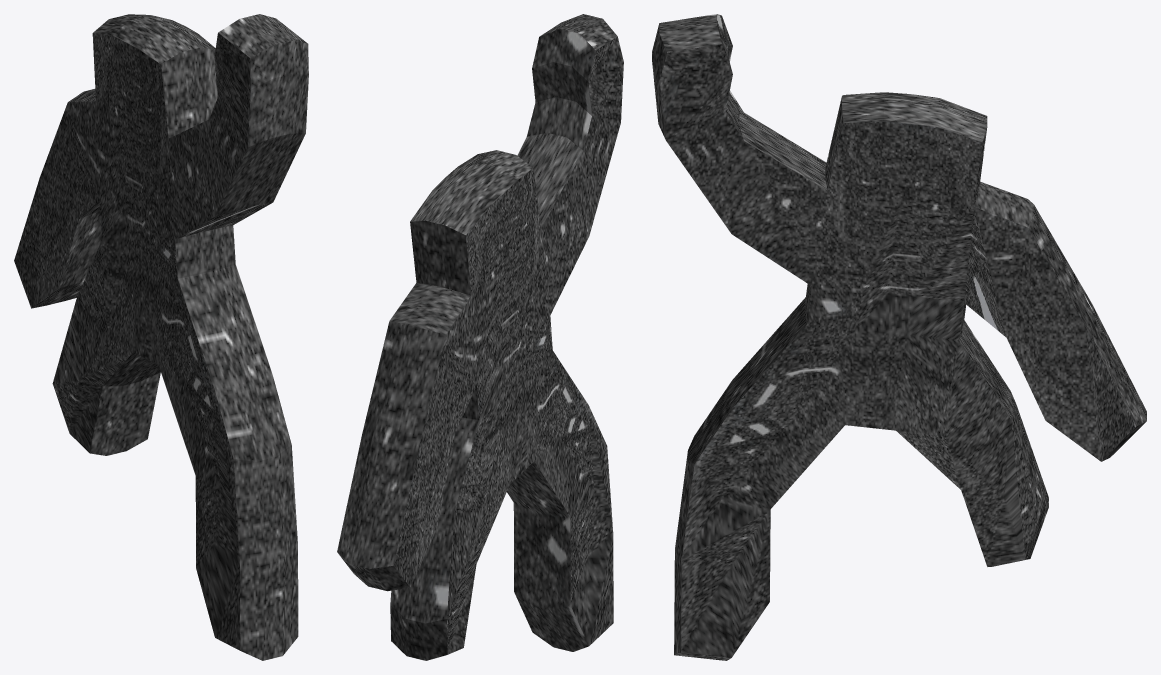
The model's file is Xenonita.obj.
3 views of the same model, side by side, from view 1: azimuth 30°, elevation 25°; view 2: azimuth 150°, elevation 25°; view 3: azimuth 270°, elevation 25° (orthographic). The views are drawn at different scales.
Visible parts, largest first — view 1: Xenonita; view 2: Xenonita; view 3: Xenonita.
Boxes of the visible parts, bbox=[...] form: Xenonita: bbox=[14, 14, 308, 660]; Xenonita: bbox=[337, 14, 623, 660]; Xenonita: bbox=[652, 14, 1146, 660].
Size of the model in its own units: 0.1142 by 1 by 0.7049.
